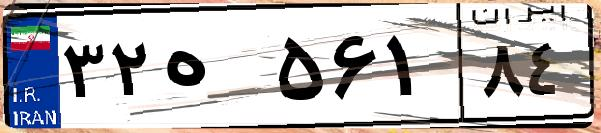1: (385, 28, 445, 110)
2: (110, 28, 158, 98)
3: (57, 26, 110, 100)
4: (525, 38, 570, 115)
5: (270, 28, 330, 110)
6: (330, 28, 385, 110)
8: (475, 38, 525, 113)
ه: (158, 20, 270, 120)
